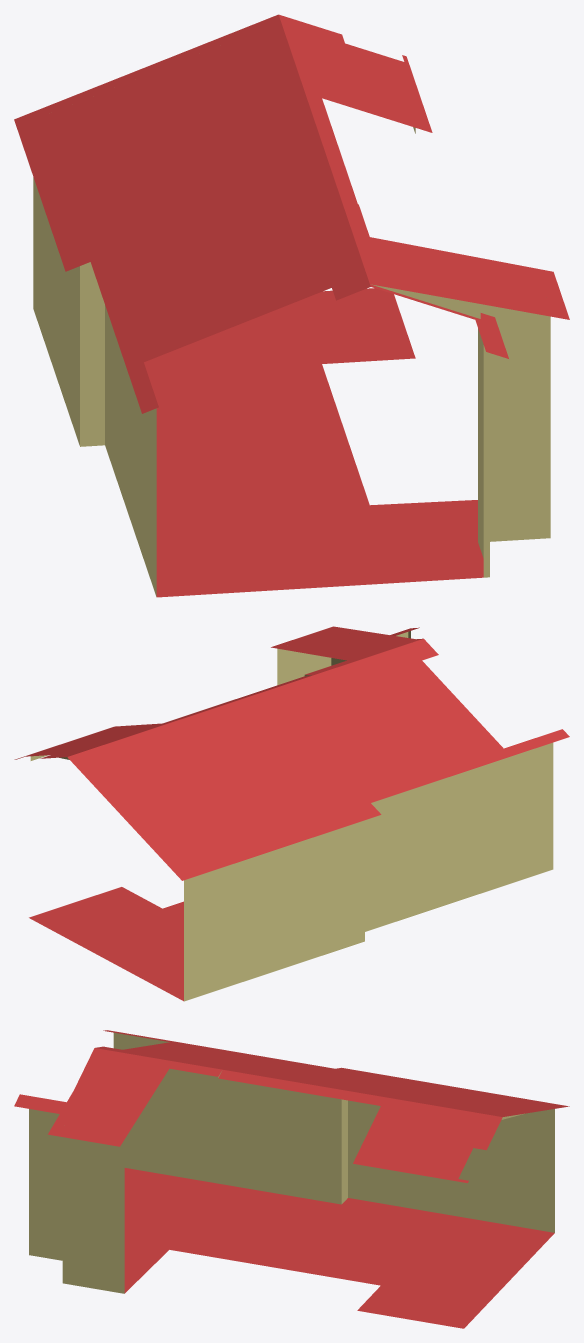
The picture shows the model from 3 angles, top to bottom: view 1: azimuth 30°, elevation 25°; view 2: azimuth 150°, elevation 25°; view 3: azimuth 270°, elevation 25°; orthographic projection. The views are drawn at different scales.
Bounding box in the file's own units: 17.98 × 24.11 × 8.8.
